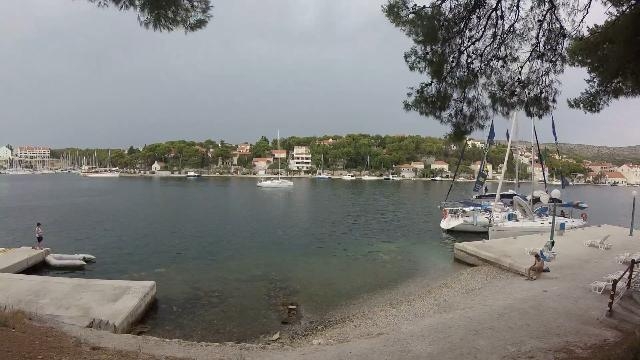Sailboat: (254, 176, 296, 190)
